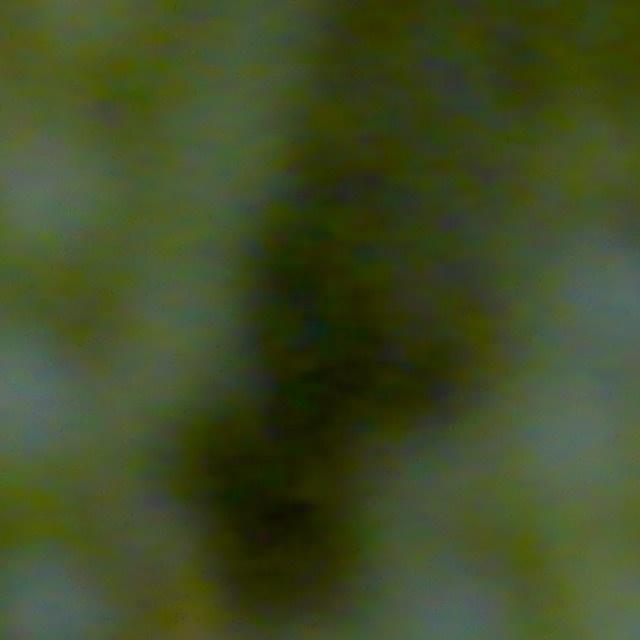SeaGrape: (460, 353, 640, 557), (0, 94, 148, 330), (531, 215, 640, 383), (352, 448, 481, 586)
